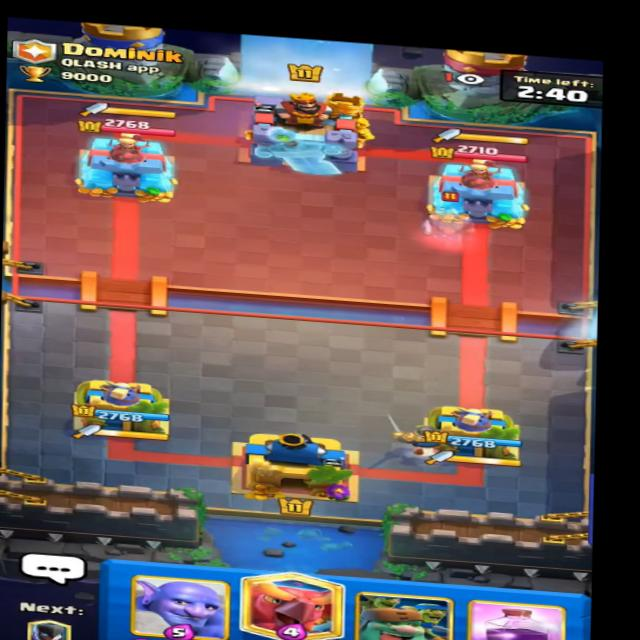royal-ghost: (421, 190, 479, 243)
